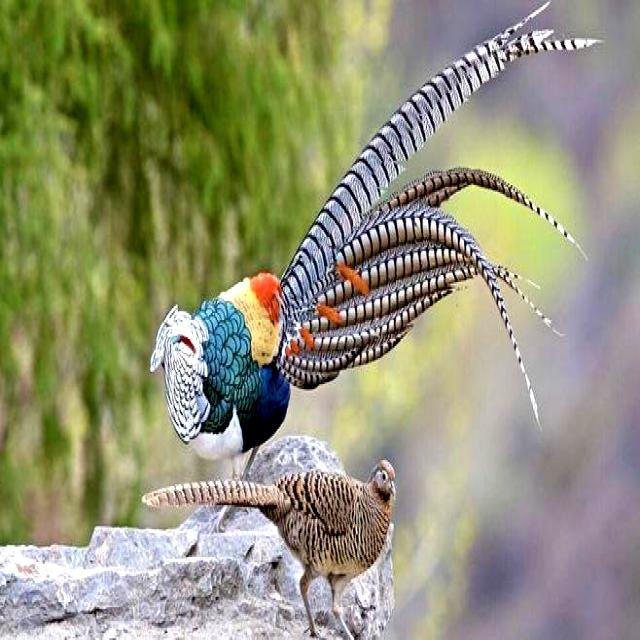Chrysolophus amherstiae: (277, 5, 583, 387)
